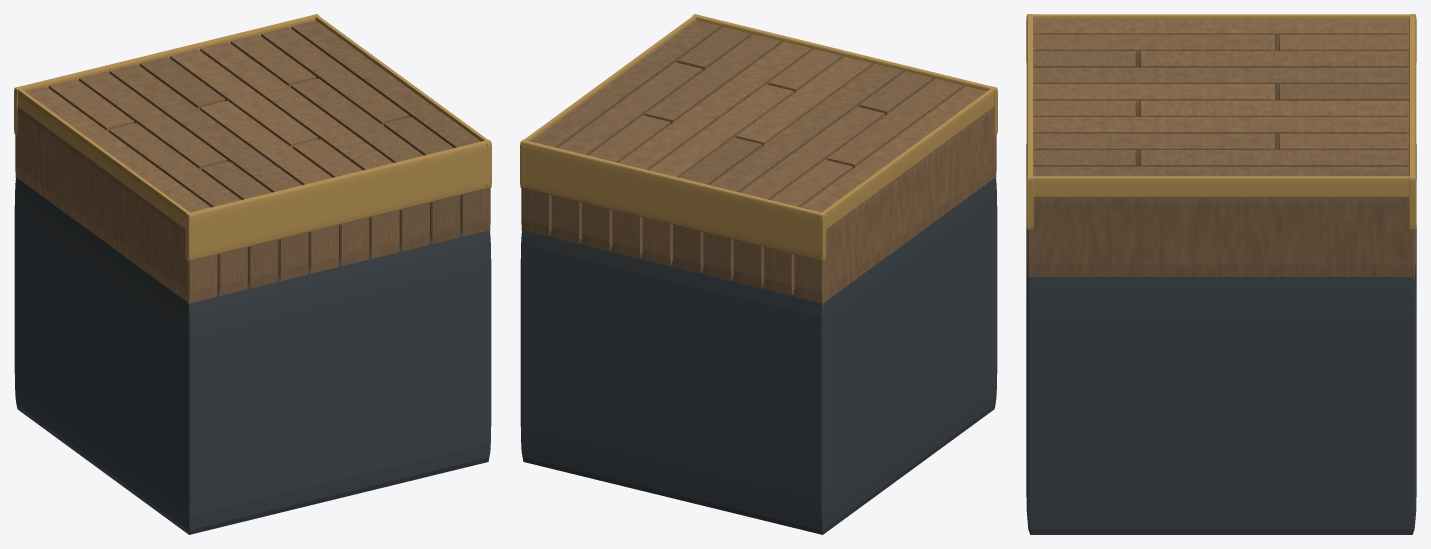
The model's file is lift.gltf.
3 views of the same model, side by side, from view 1: azimuth 30°, elevation 25°; view 2: azimuth 150°, elevation 25°; view 3: azimuth 270°, elevation 25° (orthographic). The views are drawn at different scales.
Parts seen in each view (by area): view 1: lift; view 2: lift; view 3: lift.
Part boxes in pixels (left/top/right/bottom): lift: left=14, top=14, right=491, bottom=534; lift: left=520, top=14, right=997, bottom=534; lift: left=1026, top=14, right=1416, bottom=534.
Bounding box in the file's own units: 1 × 1.01 × 1.
Materials: 7 (5 with a texture image).
